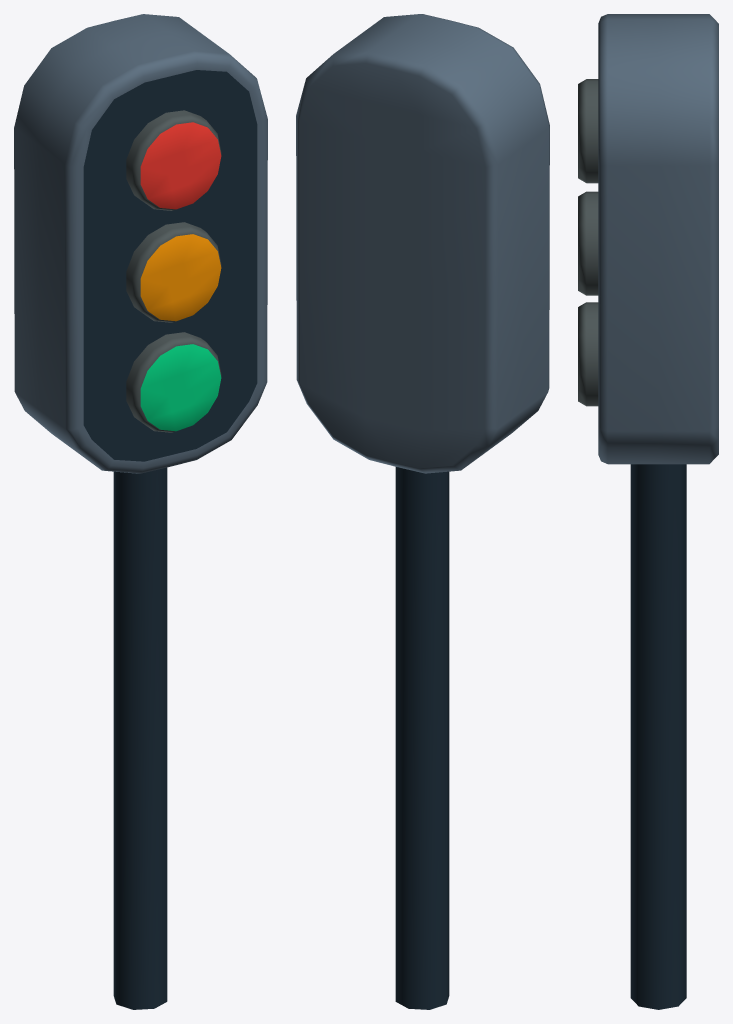
The model's file is trafficlight.fbx.
The picture shows the model from 3 angles, left to right: view 1: azimuth 30°, elevation 25°; view 2: azimuth 150°, elevation 25°; view 3: azimuth 270°, elevation 25°; orthographic projection.
Parts seen in each view (by area): view 1: traffic; view 2: traffic; view 3: traffic.
Part boxes in pixels (left/top/right/bottom): traffic: left=14, top=14, right=267, bottom=1009; traffic: left=296, top=14, right=549, bottom=1009; traffic: left=578, top=14, right=718, bottom=1009.
Size of the model in its own units: 4.6 by 20.86 by 2.76.
